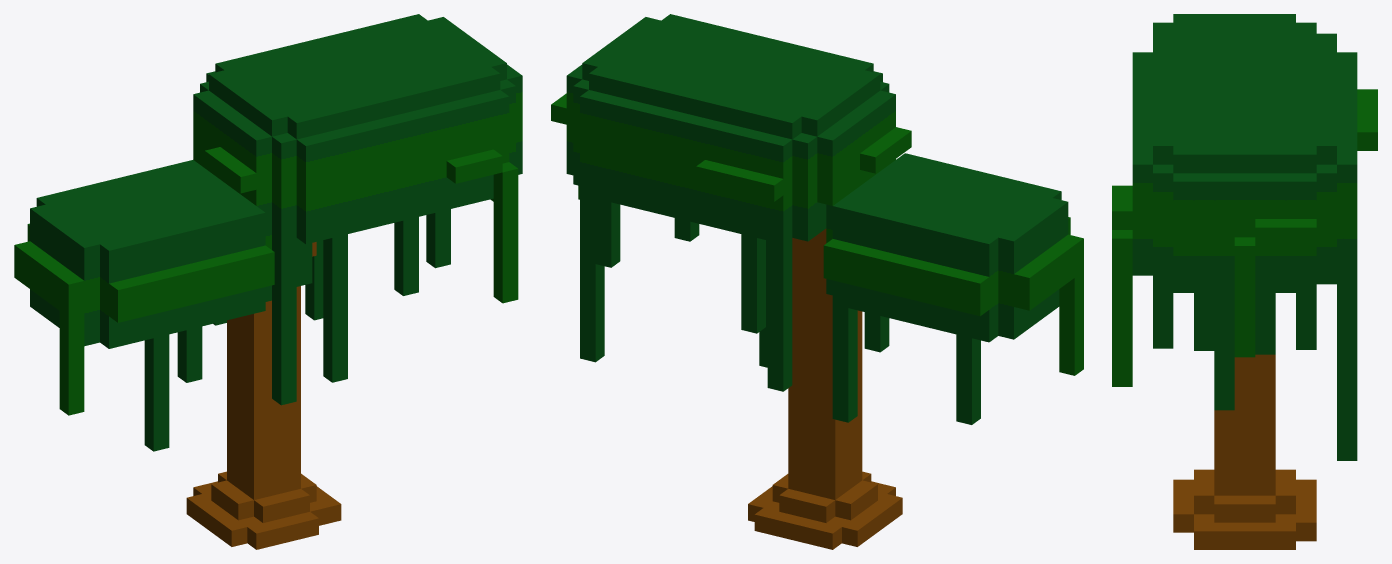
Rendered from tree4-2.dae.
The picture shows the model from 3 angles, left to right: view 1: azimuth 30°, elevation 25°; view 2: azimuth 150°, elevation 25°; view 3: azimuth 270°, elevation 25°; orthographic projection. The views are drawn at different scales.
Parts seen in each view (by area): view 1: tree4-2; view 2: tree4-2; view 3: tree4-2.
Part boxes in pixels (x1,y1,x2,y2): tree4-2: (14,14,522,549); tree4-2: (551,14,1083,549); tree4-2: (1112,14,1377,549).
Bounding box in the file's own units: 3 × 1.3 × 2.6.
Materials: 1 (1 with a texture image).
